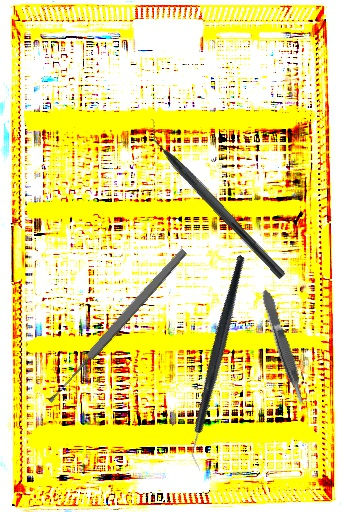Chopper: (125, 254, 314, 473), (137, 116, 296, 281)
Surgical Spoon: (44, 246, 190, 406)
Tissue Forceps: (258, 287, 310, 410)
